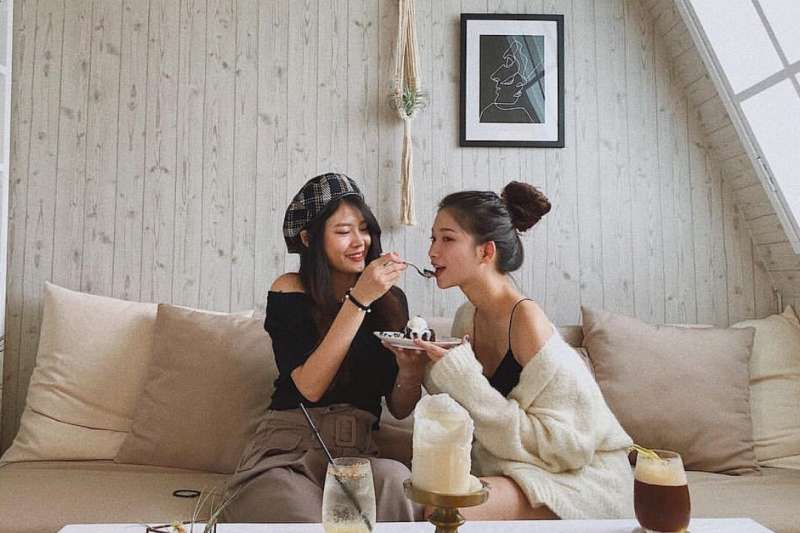people: (426, 187, 644, 520), (241, 177, 428, 533)
